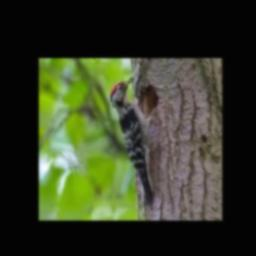Woodpecker: (110, 76, 158, 208)
